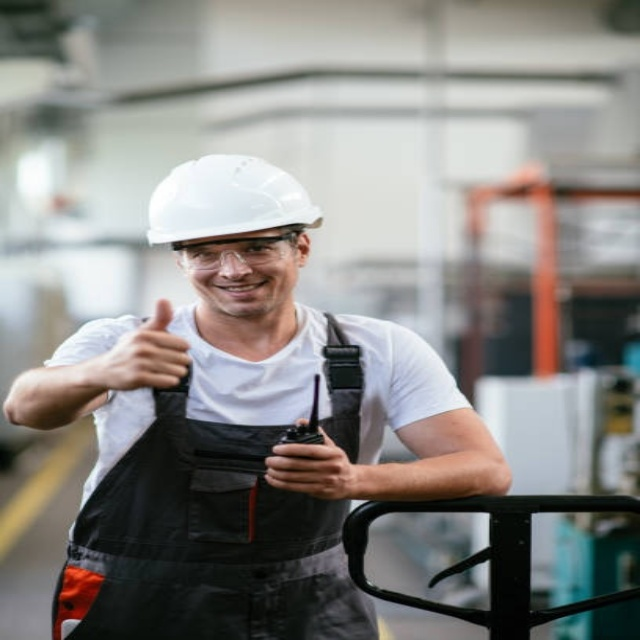Gafas: (180, 231, 300, 270)
Sin_guantes: (86, 296, 198, 394), (263, 422, 358, 500)
Sin_mascara: (207, 277, 278, 306)
